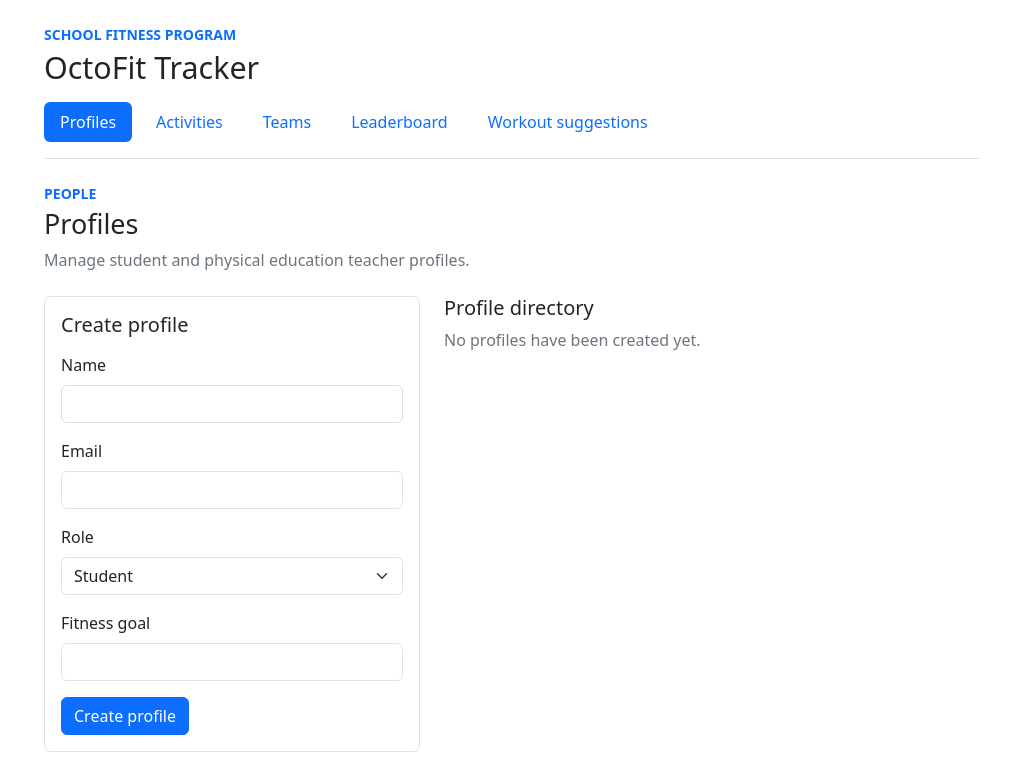
Test: OctoFit feature interactions › creates a teacher profile with the selected role
The width and height of the screenshot is (1024, 768).
Type "Coach Lee" into the field labelled "Name" at (232,404), box top-left (61, 385), bottom-right (403, 423)
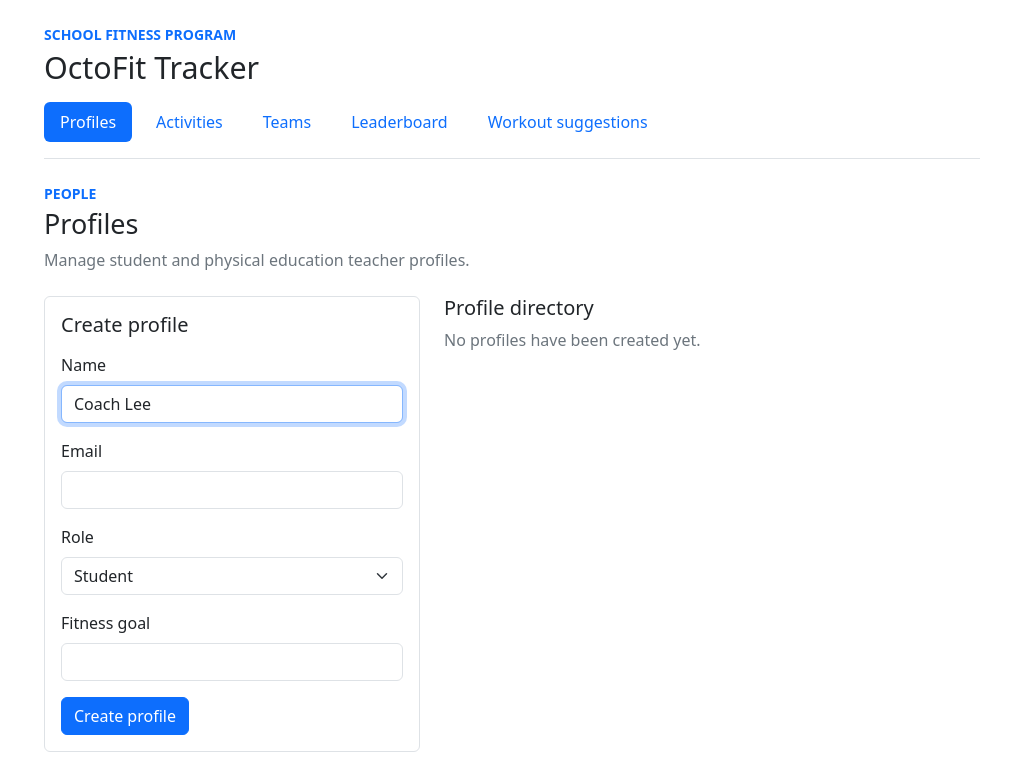
Type "lee@example.com" into the field labelled "Email" at (232,490), box top-left (61, 471), bottom-right (403, 509)
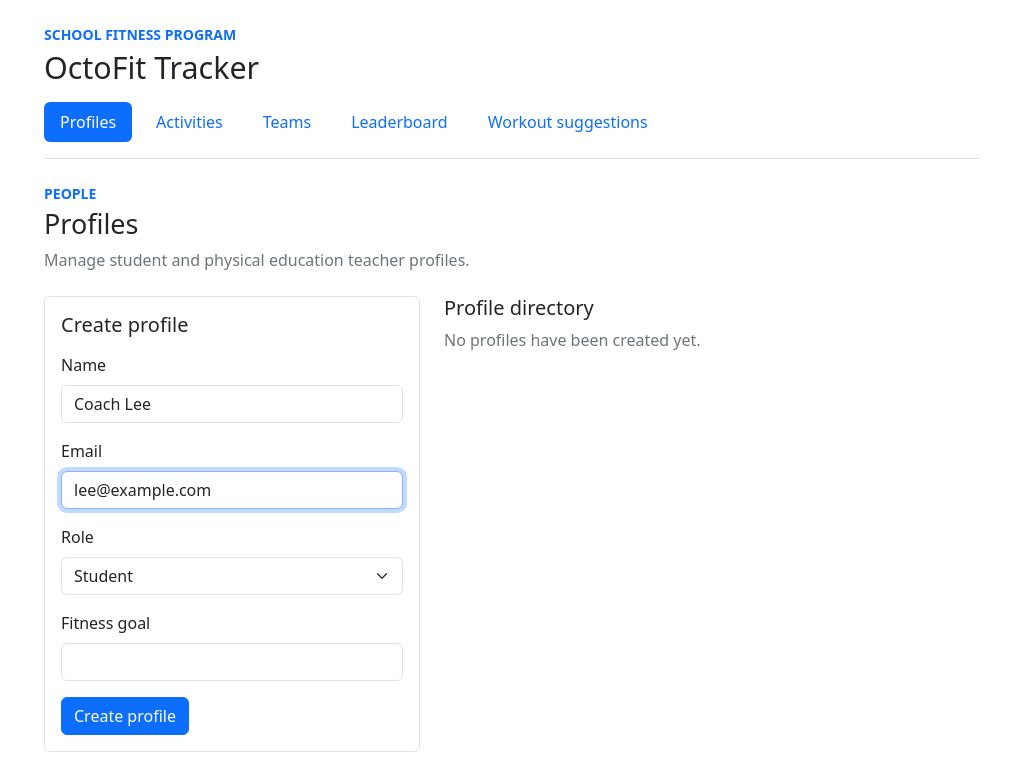
Select "Physical education teacher" in the dropdown labelled "Role" at (232,576), box top-left (61, 557), bottom-right (403, 595)
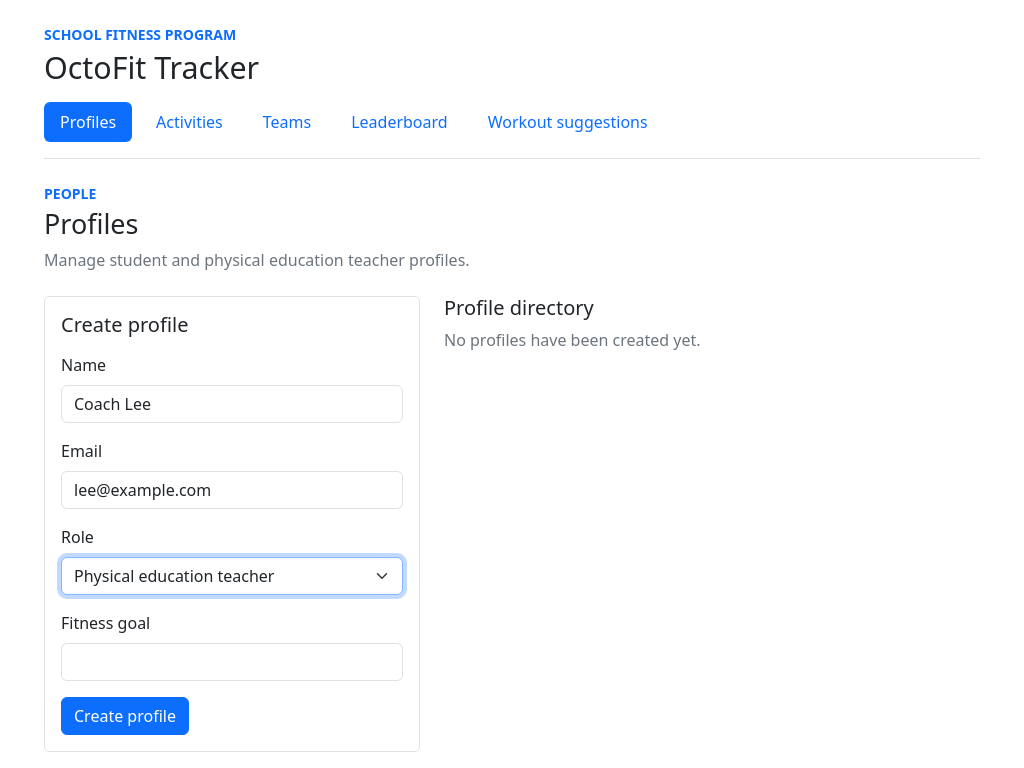
Click the button "Create profile" at (125,716), box top-left (61, 697), bottom-right (189, 735)
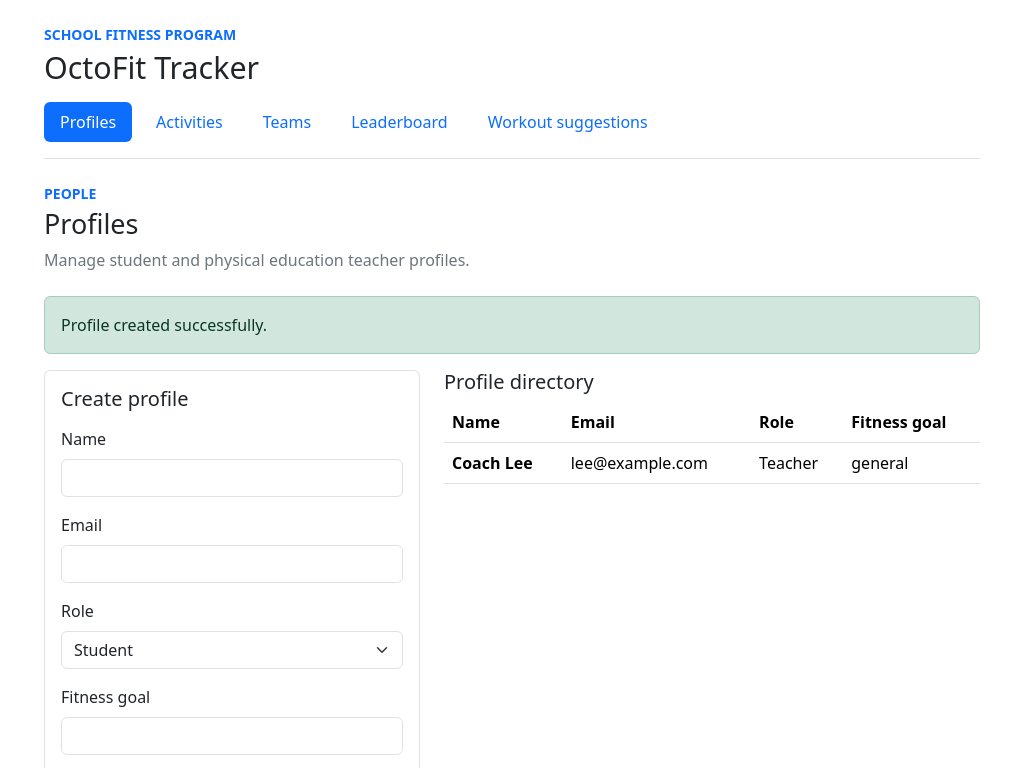
Expected: the column heading "Coach Lee" is shown, top-left (444, 442), bottom-right (563, 483)
Expected: the message shows "created successfully", top-left (61, 314), bottom-right (267, 336)
